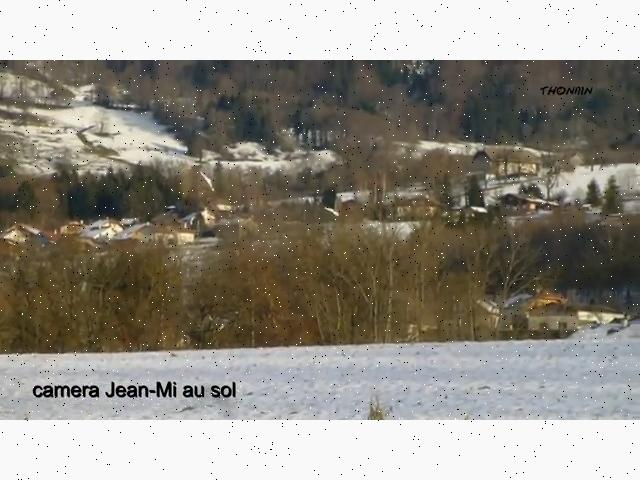Anti-Drone: (196, 166, 228, 196)
